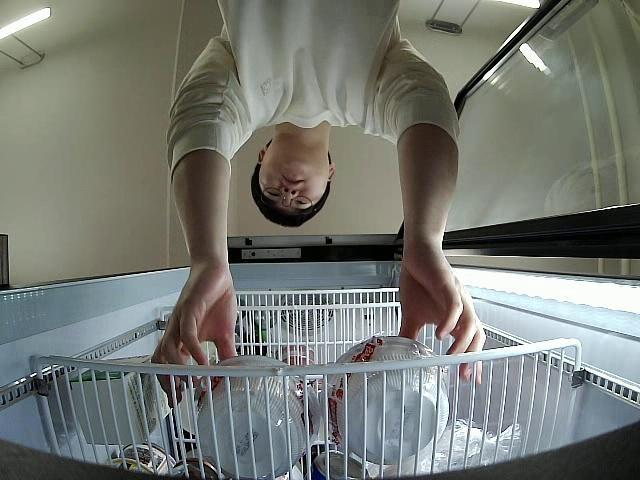09_yukGaeJang: (322, 334, 451, 466), (195, 356, 320, 476)
